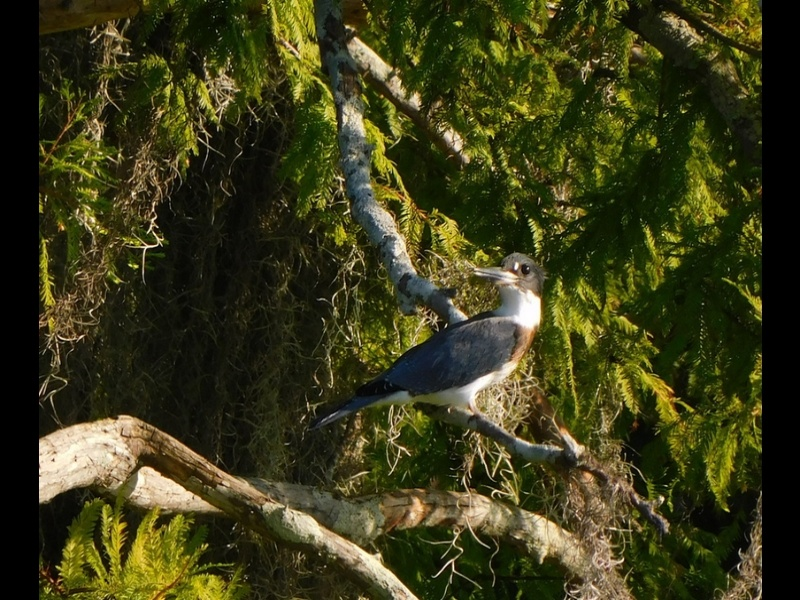kingfisher: (326, 248, 550, 439)
